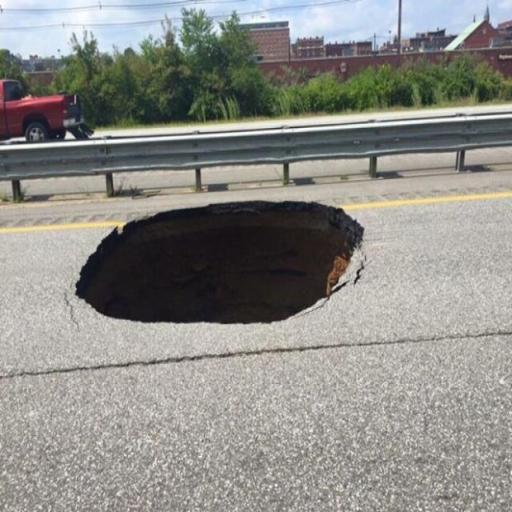Concentric_Crack: (75, 202, 365, 324)
